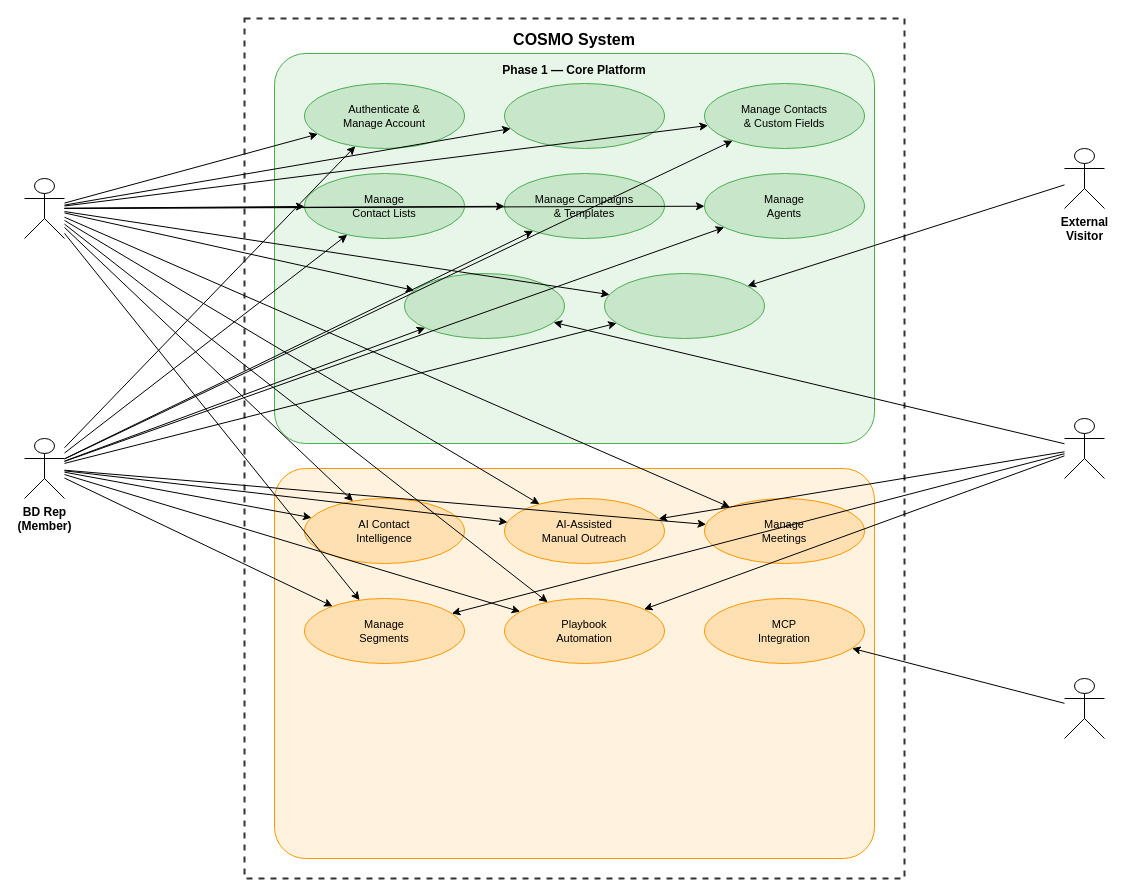
Some shapes in this 1136 by 896 pixel diagram are drawn without their labels. Here are the shapes that lost their labels. From the top down, the box of each, then its label:
(504, 82, 664, 148): Manage Organization
(24, 178, 64, 238): Admin
(404, 272, 564, 338): Orchestrate Tasks
(604, 272, 764, 338): Manage Lead Forms
(1064, 418, 1104, 478): Background Worker
(274, 468, 874, 858): Phase 2 — AI-Assisted Outreach
(1064, 678, 1104, 738): AI Tool Agent
